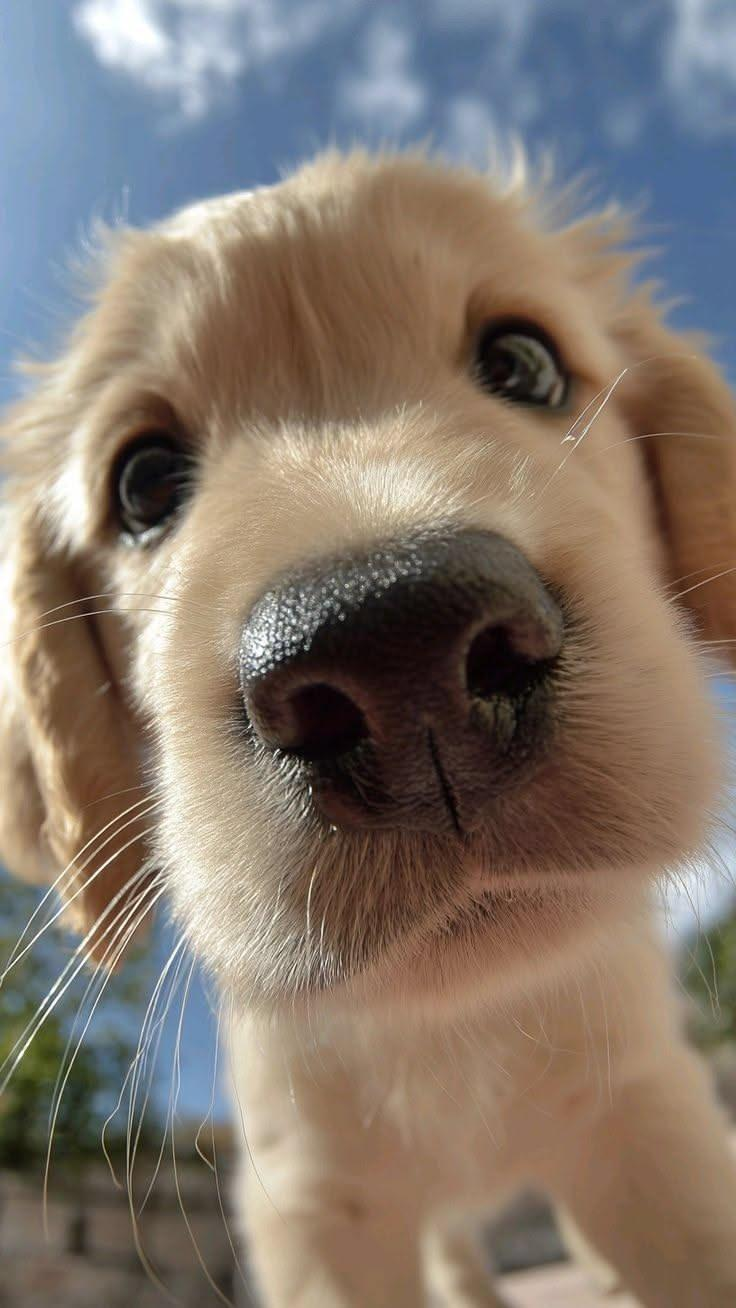puppy-dog: (0, 125, 736, 1308)
